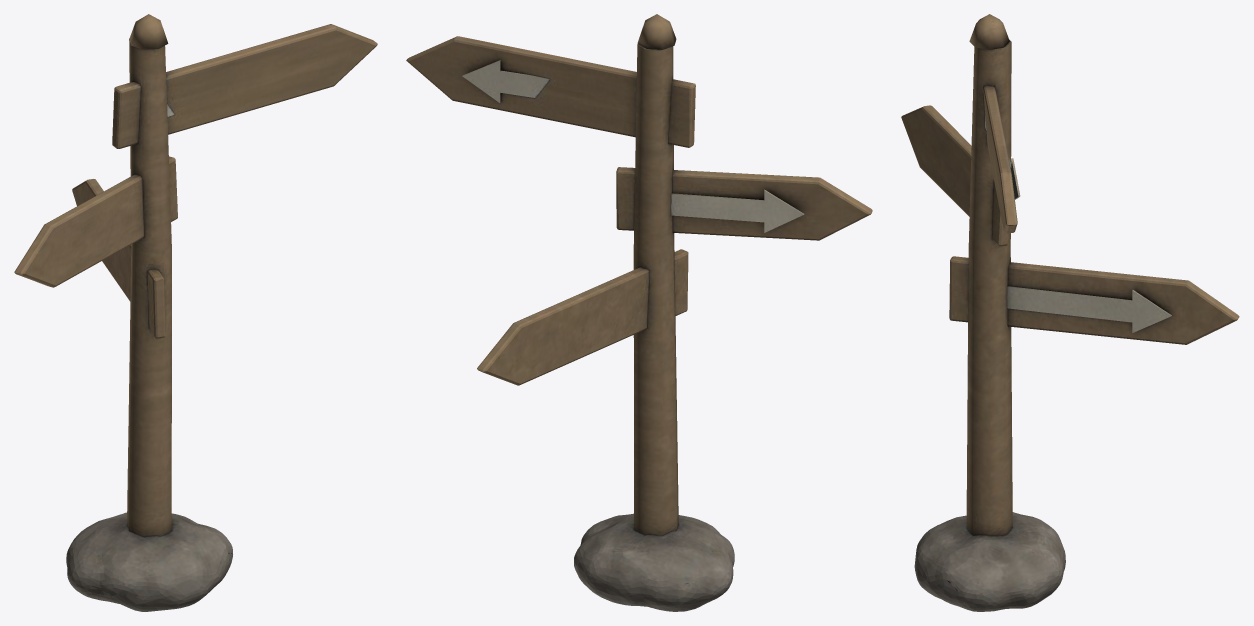
File: costa_placa_seta_c.glb
3 views of the same model, side by side, from view 1: azimuth 30°, elevation 25°; view 2: azimuth 150°, elevation 25°; view 3: azimuth 270°, elevation 25° (orthographic).
Parts seen in each view (by area): view 1: costa_placa_seta_c_tronco; view 2: costa_placa_seta_c_tronco; view 3: costa_placa_seta_c_tronco.
Boxes of the visible parts, bbox=[...] form: costa_placa_seta_c_tronco: bbox=[14, 14, 377, 611]; costa_placa_seta_c_tronco: bbox=[406, 14, 872, 611]; costa_placa_seta_c_tronco: bbox=[901, 14, 1239, 611].
Size of the model in its own units: 1.41 by 1.9 by 1.
1 material, 1 textured.
